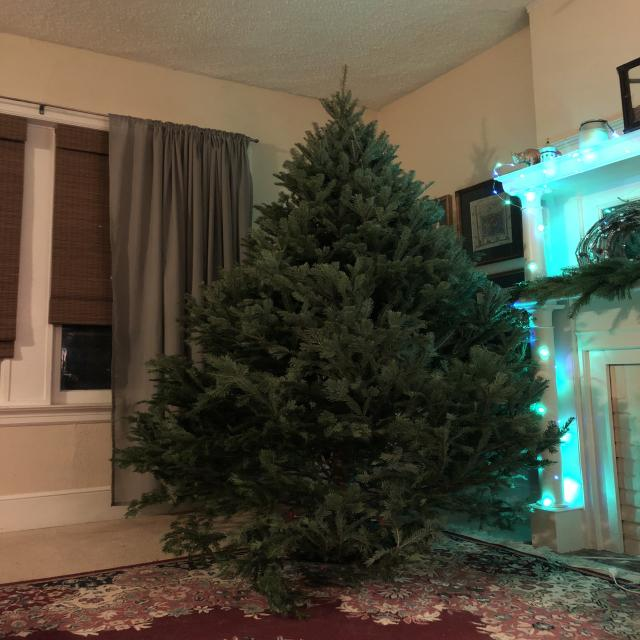Christmas-tree: (141, 76, 517, 584)
